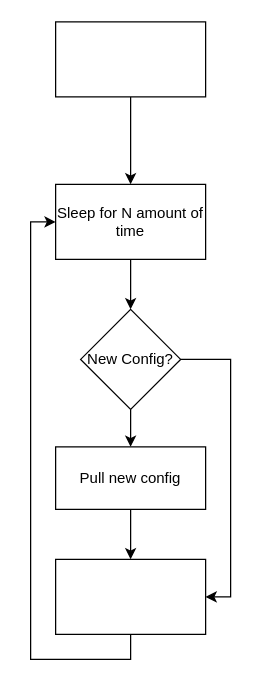
Some shapes in this 263 by 691 pixel diagram are drawn without their labels. The shapes that lost their labels are listed below. From the top down, each one's centre as x and y in pixels, then its label:
point (130, 59): Program start
point (130, 596): Play random video in Media directory
